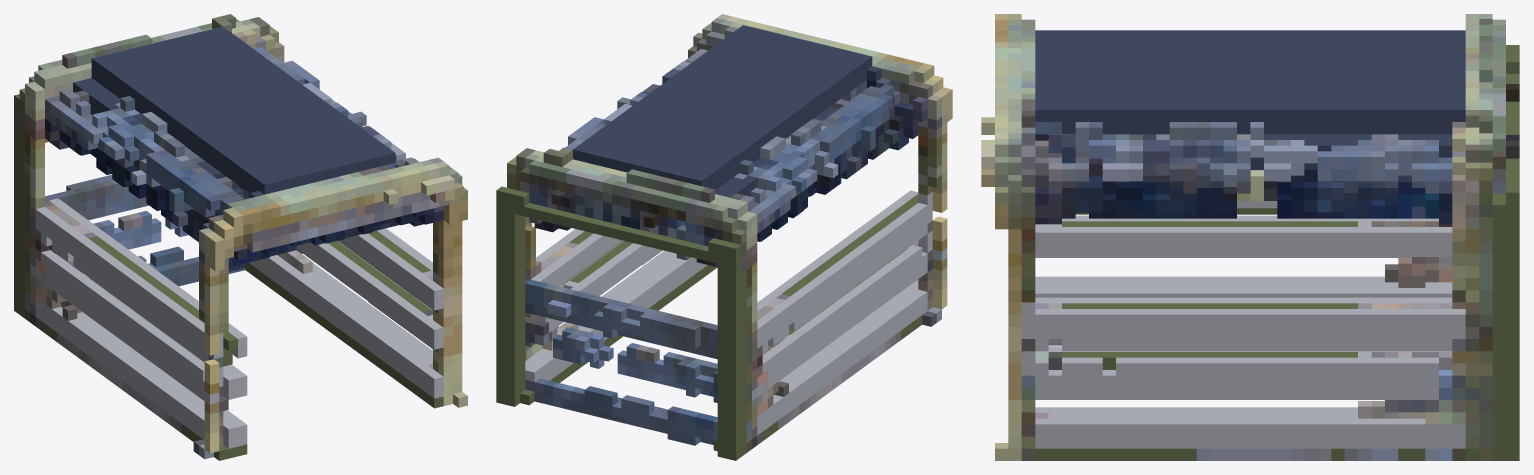
The model's file is CartBay.glb.
The picture shows the model from 3 angles, left to right: view 1: azimuth 30°, elevation 25°; view 2: azimuth 150°, elevation 25°; view 3: azimuth 270°, elevation 25°; orthographic projection. The views are drawn at different scales.
Parts seen in each view (by area): view 1: _0; view 2: _0; view 3: _0.
Boxes of the visible parts, x1,y1,x2,y2 form: _0: (14,14,467,460); _0: (496,14,952,460); _0: (981,14,1519,460).
Size of the model in its own units: 0.0405 by 0.039 by 0.06.
